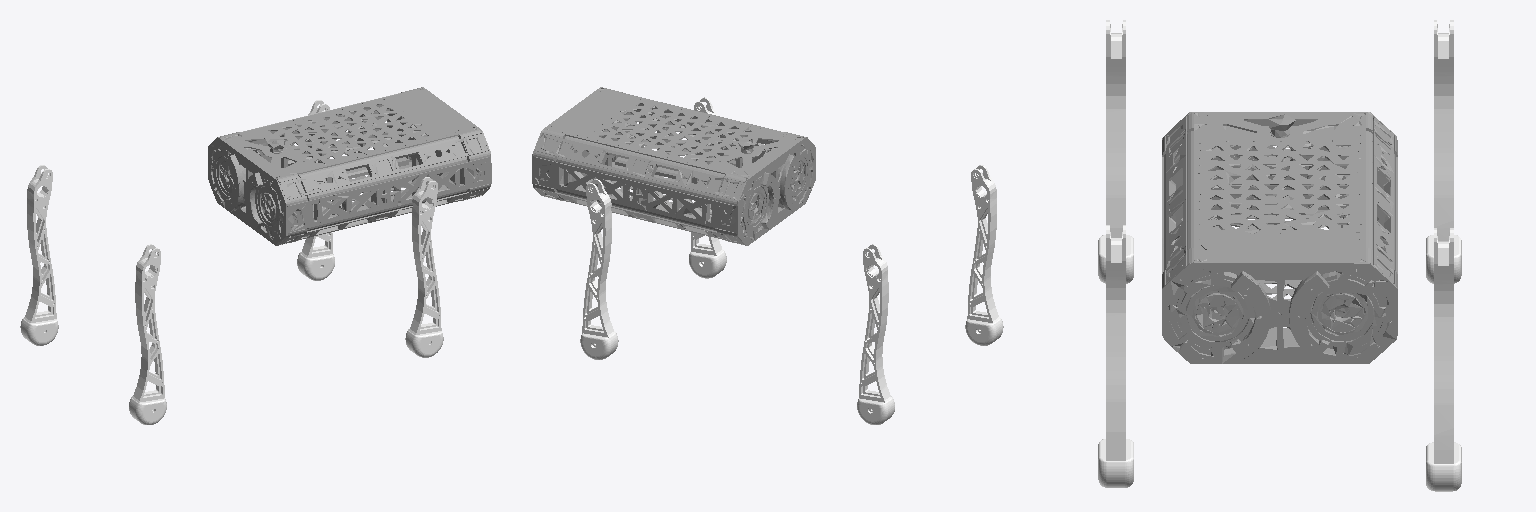
The robot description file, URDF, robot "dog2":
<?xml version='1.0' encoding='UTF-8'?>
<!-- This URDF was automatically created by SolidWorks to URDF Exporter! Originally created by Stephen Brawner (brawner@gmail.com)
     Commit Version: 1.6.0-4-g7f85cfe  Build Version: 1.6.7995.38578
     For more information, please see http://wiki.ros.org/sw_urdf_exporter -->
<robot name="dog2">
  <link name="base">
    <inertial>
      <origin xyz="-0.0085 0.0003  0.0515" rpy="0 0 0"/>
      <mass value="12.0800"/>
      <inertia ixx="0.0592" ixy="0.0000" ixz="0.0002" iyy="0.2059" iyz="0.0000" izz="0.2419"/>
    </inertial>
    <visual>
      <origin xyz="0 0 0" rpy="0 0 0"/>
      <geometry>
        <mesh filename="package://dog2/meshes/body_link.stl"/>
      </geometry>
      <material name="">
        <color rgba="0.69804 0.69804 0.69804 1"/>
      </material>
    </visual>
    <collision>
      <origin xyz="0 0 0" rpy="0 0 0"/>
      <geometry>
        <mesh filename="package://dog2/meshes/body_link.stl"/>
      </geometry>
    </collision>
  </link>
  <link name="FL_hip">
    <inertial>
      <origin xyz="0.049906 0.0022547 3.1784E-05" rpy="0 0 0"/>
      <mass value="1.171534"/>
      <inertia ixx="0.001214" ixy=" -0.000026" ixz="0.000015" iyy="0.001915" iyz="-0.000007" izz="0.001499"/>
    </inertial>
    <visual>
      <origin xyz="0 0 0" rpy="0 0 0"/>
      <geometry>
        <mesh filename="package://dog2/meshes/lf_link1.stl"/>
      </geometry>
      <material name="">
        <color rgba="0.86667 0.9098 1 1"/>
      </material>
    </visual>
    <collision>
      <origin xyz="0 0 0" rpy="0 0 0"/>
      <geometry>
        <mesh filename="package://dog2/meshes/lf_link1.stl"/>
      </geometry>
    </collision>
  </link>
  <joint name="FL_hip_joint" type="revolute">
    <origin xyz="0.19186 0.069989 0.062" rpy="0 0 0"/>
    <parent link="base"/>
    <child link="FL_hip"/>
    <axis xyz="1 0 0"/>
    <limit lower="-3.14159" upper="3.14159" effort="30" velocity="30"/>
  </joint>
  <link name="FL_thigh">
    <inertial>
      <origin xyz="0.0509 0.0631 -0.0053" rpy="0 0 0"/>
      <mass value="2.1452"/>
      <inertia ixx="0.0029" ixy="-0.0024" ixz="0.0007" iyy="0.0176" iyz="0.0003" izz="0.0177"/>
    </inertial>
    <visual>
      <origin xyz="0 0 0" rpy="0 0 0"/>
      <geometry>
        <mesh filename="package://dog2/meshes/lf_link2.stl"/>
      </geometry>
      <material name="">
        <color rgba="0.86667 0.9098 1 1"/>
      </material>
    </visual>
    <collision>
      <origin xyz="0 0 0" rpy="0 0 0"/>
      <geometry>
        <mesh filename="package://dog2/meshes/lf_link2.stl"/>
      </geometry>
    </collision>
  </link>
  <joint name="FL_thigh_joint" type="revolute">
    <origin xyz="0.07 0.0252 0" rpy="3.1416 0 -3.1416"/>
    <parent link="FL_hip"/>
    <child link="FL_thigh"/>
    <axis xyz="0 1 0"/>
    <limit lower="-3.14159" upper="3.14159" effort="30" velocity="30"/>
  </joint>
  <link name="FL_calf">
    <inertial>
      <origin xyz="0.13164 -4.7633E-05 0.0014075" rpy="0 0 0"/>
      <mass value="0.24497"/>
      <inertia ixx="4.0023E-05" ixy="1.4408E-06" ixz="4.3547E-05" iyy="0.0021463" iyz="3.4183E-08" izz="0.0021238"/>
    </inertial>
    <visual>
      <origin xyz="0 0 0" rpy="0 0 0"/>
      <geometry>
        <mesh filename="package://dog2/meshes/lf_link3.stl"/>
      </geometry>
      <material name="">
        <color rgba="1 1 1 1"/>
      </material>
    </visual>
    <collision>
      <origin xyz="0 0 0" rpy="0 0 0"/>
      <geometry>
        <mesh filename="package://dog2/meshes/lf_link3.stl"/>
      </geometry>
    </collision>
  </link>
  <joint name="FL_calf_joint" type="revolute">
    <origin xyz="0.22996 0.0881 0.0043762" rpy="3.1416 -1.570796327 -3.1416"/>
    <parent link="FL_thigh"/>
    <child link="FL_calf"/>
    <axis xyz="0 1 0"/>
    <limit lower="-3.14159" upper="3.14159" effort="30" velocity="30"/>
  </joint>
  <link name="FL_foot">
    <inertial>
      <origin xyz="4.5226E-10 -5.5453E-05 -0.0061728" rpy="0 0 0"/>
      <mass value="0.13384"/>
      <inertia ixx="3.8674E-05" ixy="4.6691E-11" ixz="6.7988E-13" iyy="5.6264E-05" iyz="-4.5825E-08" izz="5.6125E-05"/>
    </inertial>
    <visual>
      <origin xyz="0 0 0" rpy="0 0 0"/>
      <geometry>
        <mesh filename="package://dog2/meshes/lf_link4.stl"/>
      </geometry>
      <material name="">
        <color rgba="1 1 1 1"/>
      </material>
    </visual>
    <collision>
      <origin xyz="0 0 0" rpy="0 0 0"/>
      <geometry>
        <mesh filename="package://dog2/meshes/lf_link4.stl"/>
      </geometry>
    </collision>
  </link>
  <joint name="FL_foot_joint" type="fixed">
    <origin xyz="0.25703 0 0" rpy="0 -1.4959 0"/>
    <parent link="FL_calf"/>
    <child link="FL_foot"/>
    <axis xyz="0 0 0"/>
  </joint>
  <link name="FR_hip">
    <inertial>
      <origin xyz="0.063999 -0.001797 0.010368" rpy="0 0 0"/>
      <mass value="1.170661"/>
      <inertia ixx=" 0.001215" ixy="0.000029" ixz=" 0.000015" iyy="0.001923" iyz="-0.000006" izz="0.001511"/>
    </inertial>
    <visual>
      <origin xyz="0 0 0" rpy="0 0 0"/>
      <geometry>
        <mesh filename="package://dog2/meshes/rf_link1.stl"/>
      </geometry>
      <material name="">
        <color rgba="0.86667 0.9098 1 1"/>
      </material>
    </visual>
    <collision>
      <origin xyz="0 0 0" rpy="0 0 0"/>
      <geometry>
        <mesh filename="package://dog2/meshes/rf_link1.stl"/>
      </geometry>
    </collision>
  </link>
  <joint name="FR_hip_joint" type="revolute">
    <origin xyz="0.19186 -0.069602 0.051649" rpy="0 0 0"/>
    <parent link="base"/>
    <child link="FR_hip"/>
    <axis xyz="1 0 0"/>
    <limit lower="-3.14159" upper="3.14159" effort="30" velocity="30"/>
  </joint>
  <link name="FR_thigh">
    <inertial>
      <origin xyz="0.0507 -0.0630 -0.0062" rpy="0 0 0"/>
      <mass value="2.1478"/>
      <inertia ixx=" 0.0029" ixy="0.0024" ixz=" 0.0010" iyy="0.0176" iyz=" -0.0003" izz="0.0177"/>
    </inertial>
    <visual>
      <origin xyz="0 0 0" rpy="0 0 0"/>
      <geometry>
        <mesh filename="package://dog2/meshes/rf_link2.stl"/>
      </geometry>
      <material name="">
        <color rgba="0.86667 0.9098 1 1"/>
      </material>
    </visual>
    <collision>
      <origin xyz="0 0 0" rpy="0 0 0"/>
      <geometry>
        <mesh filename="package://dog2/meshes/rf_link2.stl"/>
      </geometry>
    </collision>
  </link>
  <joint name="FR_thigh_joint" type="revolute">
    <origin xyz="0.07 -0.025609 0.010351" rpy="3.1416 0 -3.1416"/>
    <parent link="FR_hip"/>
    <child link="FR_thigh"/>
    <axis xyz="0 1 0"/>
    <limit lower="-3.14159" upper="3.14159" effort="30" velocity="30"/>
  </joint>
  <link name="FR_calf">
    <inertial>
      <origin xyz="0.13164 4.7633E-05 0.0014075" rpy="0 0 0"/>
      <mass value="0.24497"/>
      <inertia ixx="4.0023E-05" ixy="-1.4408E-06" ixz="4.3547E-05" iyy="0.0021463" iyz="-3.4183E-08" izz="0.0021238"/>
    </inertial>
    <visual>
      <origin xyz="0 0 0" rpy="0 0 0"/>
      <geometry>
        <mesh filename="package://dog2/meshes/rf_link3.stl"/>
      </geometry>
      <material name="">
        <color rgba="1 1 1 1"/>
      </material>
    </visual>
    <collision>
      <origin xyz="0 0 0" rpy="0 0 0"/>
      <geometry>
        <mesh filename="package://dog2/meshes/rf_link3.stl"/>
      </geometry>
    </collision>
  </link>
  <joint name="FR_calf_joint" type="revolute">
    <origin xyz="0.23 -0.0881 0" rpy="3.1416 -1.570796327 -3.1416"/>
    <parent link="FR_thigh"/>
    <child link="FR_calf"/>
    <axis xyz="0 1 0"/>
    <limit lower="-3.14159" upper="3.14159" effort="30" velocity="30"/>
  </joint>
  <link name="FR_foot">
    <inertial>
      <origin xyz="4.9022E-10 -5.5453E-05 -0.0061728" rpy="0 0 0"/>
      <mass value="0.13384"/>
      <inertia ixx="3.8674E-05" ixy="4.6888E-11" ixz="7.3638E-13" iyy="5.6264E-05" iyz="-4.5825E-08" izz="5.6125E-05"/>
    </inertial>
    <visual>
      <origin xyz="0 0 0" rpy="0 0 0"/>
      <geometry>
        <mesh filename="package://dog2/meshes/rf_link4.stl"/>
      </geometry>
      <material name="">
        <color rgba="1 1 1 1"/>
      </material>
    </visual>
    <collision>
      <origin xyz="0 0 0" rpy="0 0 0"/>
      <geometry>
        <mesh filename="package://dog2/meshes/rf_link4.stl"/>
      </geometry>
    </collision>
  </link>
  <joint name="FR_foot_joint" type="fixed">
    <origin xyz="0.25703 0 0" rpy="0 -1.4959 0"/>
    <parent link="FR_calf"/>
    <child link="FR_foot"/>
    <axis xyz="0 0 0"/>
  </joint>
  <link name="RL_hip">
    <inertial>
      <origin xyz="-0.063650 0.001126 0.000018" rpy="0 0 0"/>
      <mass value="1.171534"/>
      <inertia ixx="0.001187" ixy="0.000024" ixz="-0.000015" iyy="0.001888" iyz="0.000006" izz="0.001486"/>
    </inertial>
    <visual>
      <origin xyz="0 0 0" rpy="0 0 0"/>
      <geometry>
        <mesh filename="package://dog2/meshes/lb_link1.stl"/>
      </geometry>
      <material name="">
        <color rgba="1 1 1 1"/>
      </material>
    </visual>
    <collision>
      <origin xyz="0 0 0" rpy="0 0 0"/>
      <geometry>
        <mesh filename="package://dog2/meshes/lb_link1.stl"/>
      </geometry>
    </collision>
  </link>
  <joint name="RL_hip_joint" type="revolute">
    <origin xyz="-0.20874 0.069989 0.062" rpy="0 0 0"/>
    <parent link="base"/>
    <child link="RL_hip"/>
    <axis xyz="1 0 0"/>
    <limit lower="-3.14159" upper="3.14159" effort="30" velocity="30"/>
  </joint>
  <link name="RL_thigh">
    <inertial>
      <origin xyz="0.0507 0.0631 -0.0063" rpy="0 0 0"/>
      <mass value="2.1470"/>
      <inertia ixx="0.0029" ixy=" -0.0024" ixz="0.0010" iyy="0.0176" iyz="0.0003" izz="0.0177"/>
    </inertial>
    <visual>
      <origin xyz="0 0 0" rpy="0 0 0"/>
      <geometry>
        <mesh filename="package://dog2/meshes/lb_link2.stl"/>
      </geometry>
      <material name="">
        <color rgba="0.86667 0.9098 1 1"/>
      </material>
    </visual>
    <collision>
      <origin xyz="0 0 0" rpy="0 0 0"/>
      <geometry>
        <mesh filename="package://dog2/meshes/lb_link2.stl"/>
      </geometry>
    </collision>
  </link>
  <joint name="RL_thigh_joint" type="revolute">
    <origin xyz="-0.07 0.0252 0" rpy="-3.1416 0 3.1416"/>
    <parent link="RL_hip"/>
    <child link="RL_thigh"/>
    <axis xyz="0 1 0"/>
    <limit lower="-3.14159" upper="3.14159" effort="30" velocity="30"/>
  </joint>
  <link name="RL_calf">
    <inertial>
      <origin xyz="0.13164 -4.7633E-05 0.0014075" rpy="0 0 0"/>
      <mass value="0.24497"/>
      <inertia ixx="4.0023E-05" ixy="1.4408E-06" ixz="4.3547E-05" iyy="0.0021463" iyz="3.4183E-08" izz="0.0021238"/>
    </inertial>
    <visual>
      <origin xyz="0 0 0" rpy="0 0 0"/>
      <geometry>
        <mesh filename="package://dog2/meshes/lb_link3.stl"/>
      </geometry>
      <material name="">
        <color rgba="1 1 1 1"/>
      </material>
    </visual>
    <collision>
      <origin xyz="0 0 0" rpy="0 0 0"/>
      <geometry>
        <mesh filename="package://dog2/meshes/lb_link3.stl"/>
      </geometry>
    </collision>
  </link>
  <joint name="RL_calf_joint" type="revolute">
    <origin xyz="0.23 0.0881 0" rpy="-3.1416 -1.570796327 3.1416"/>
    <parent link="RL_thigh"/>
    <child link="RL_calf"/>
    <axis xyz="0 1 0"/>
    <limit lower="-3.14159" upper="3.14159" effort="30" velocity="30"/>
  </joint>
  <link name="RL_foot">
    <inertial>
      <origin xyz="4.9098E-10 -5.5453E-05 -0.0061728" rpy="0 0 0"/>
      <mass value="0.13384"/>
      <inertia ixx="3.8674E-05" ixy="4.6888E-11" ixz="7.3643E-13" iyy="5.6264E-05" iyz="-4.5825E-08" izz="5.6125E-05"/>
    </inertial>
    <visual>
      <origin xyz="0 0 0" rpy="0 0 0"/>
      <geometry>
        <mesh filename="package://dog2/meshes/lb_link4.stl"/>
      </geometry>
      <material name="">
        <color rgba="1 1 1 1"/>
      </material>
    </visual>
    <collision>
      <origin xyz="0 0 0" rpy="0 0 0"/>
      <geometry>
        <mesh filename="package://dog2/meshes/lb_link4.stl"/>
      </geometry>
    </collision>
  </link>
  <joint name="RL_foot_joint" type="fixed">
    <origin xyz="0.25703 0 0" rpy="0 -1.4959 0"/>
    <parent link="RL_calf"/>
    <child link="RL_foot"/>
    <axis xyz="0 0 0"/>
  </joint>
  <link name="RR_hip">
    <inertial>
      <origin xyz=" -0.063952 -0.001484 0.000051" rpy="0 0 0"/>
      <mass value="1.171534"/>
      <inertia ixx="0.001218" ixy="-0.000029" ixz="-0.000013" iyy=" 0.001929" iyz="-0.000007" izz="0.001517"/>
    </inertial>
    <visual>
      <origin xyz="0 0 0" rpy="0 0 0"/>
      <geometry>
        <mesh filename="package://dog2/meshes/rb_link1.stl"/>
      </geometry>
      <material name="">
        <color rgba="0.86667 0.9098 1 1"/>
      </material>
    </visual>
    <collision>
      <origin xyz="0 0 0" rpy="0 0 0"/>
      <geometry>
        <mesh filename="package://dog2/meshes/rb_link1.stl"/>
      </geometry>
    </collision>
  </link>
  <joint name="RR_hip_joint" type="revolute">
    <origin xyz="-0.20874 -0.070011 0.062" rpy="0 0 0"/>
    <parent link="base"/>
    <child link="RR_hip"/>
    <axis xyz="1 0 0"/>
    <limit lower="-3.14159" upper="3.14159" effort="30" velocity="30"/>
  </joint>
  <link name="RR_thigh">
    <inertial>
      <origin xyz="0.0507 -0.0630 -0.0062" rpy="0 0 0"/>
      <mass value="2.1478"/>
      <inertia ixx="0.0029" ixy="0.0024" ixz="0.0010" iyy="0.0176" iyz="-0.0003" izz="0.0177"/>
    </inertial>
    <visual>
      <origin xyz="0 0 0" rpy="0 0 0"/>
      <geometry>
        <mesh filename="package://dog2/meshes/rb_link2.stl"/>
      </geometry>
      <material name="">
        <color rgba="1 1 1 1"/>
      </material>
    </visual>
    <collision>
      <origin xyz="0 0 0" rpy="0 0 0"/>
      <geometry>
        <mesh filename="package://dog2/meshes/rb_link2.stl"/>
      </geometry>
    </collision>
  </link>
  <joint name="RR_thigh_joint" type="revolute">
    <origin xyz="-0.07 -0.0252 0" rpy="-3.1416 0 3.1416"/>
    <parent link="RR_hip"/>
    <child link="RR_thigh"/>
    <axis xyz="0 1 0"/>
    <limit lower="-3.14159" upper="3.14159" effort="30" velocity="30"/>
  </joint>
  <link name="RR_calf">
    <inertial>
      <origin xyz="0.13164 4.7633E-05 0.0014075" rpy="0 0 0"/>
      <mass value="0.24497"/>
      <inertia ixx="4.0023E-05" ixy="-1.4408E-06" ixz="4.3547E-05" iyy="0.0021463" iyz="-3.4183E-08" izz="0.0021238"/>
    </inertial>
    <visual>
      <origin xyz="0 0 0" rpy="0 0 0"/>
      <geometry>
        <mesh filename="package://dog2/meshes/rb_link3.stl"/>
      </geometry>
      <material name="">
        <color rgba="1 1 1 1"/>
      </material>
    </visual>
    <collision>
      <origin xyz="0 0 0" rpy="0 0 0"/>
      <geometry>
        <mesh filename="package://dog2/meshes/rb_link3.stl"/>
      </geometry>
    </collision>
  </link>
  <joint name="RR_calf_joint" type="revolute">
    <origin xyz="0.23 -0.0881 0" rpy="-3.1416 -1.570796327 3.1416"/>
    <parent link="RR_thigh"/>
    <child link="RR_calf"/>
    <axis xyz="0 1 0"/>
    <limit lower="-3.14159" upper="3.14159" effort="30" velocity="30"/>
  </joint>
  <link name="RR_foot">
    <inertial>
      <origin xyz="4.9097E-10 -5.5453E-05 -0.0061728" rpy="0 0 0"/>
      <mass value="0.13384"/>
      <inertia ixx="3.8674E-05" ixy="4.6888E-11" ixz="7.3643E-13" iyy="5.6264E-05" iyz="-4.5825E-08" izz="5.6125E-05"/>
    </inertial>
    <visual>
      <origin xyz="0 0 0" rpy="0 0 0"/>
      <geometry>
        <mesh filename="package://dog2/meshes/rb_link4.stl"/>
      </geometry>
      <material name="">
        <color rgba="1 1 1 1"/>
      </material>
    </visual>
    <collision>
      <origin xyz="0 0 0" rpy="0 0 0"/>
      <geometry>
        <mesh filename="package://dog2/meshes/rb_link4.stl"/>
      </geometry>
    </collision>
  </link>
  <joint name="RR_foot_joint" type="fixed">
    <origin xyz="0.25703 0 0" rpy="0 -1.4959 0"/>
    <parent link="RR_calf"/>
    <child link="RR_foot"/>
    <axis xyz="0 0 0"/>
  </joint>
</robot>

--- Render facts (derived) ---
Views: 3 orthographic renders of the robot side by side, from view 1: azimuth 30°, elevation 25°; view 2: azimuth 150°, elevation 25°; view 3: azimuth 270°, elevation 25°.
Model dog2 with 17 links and 16 joints (12 revolute, 4 fixed), rooted at base, posed every joint at zero.
Links seen in each view (by area): view 1: base, RR_calf, FR_calf, RL_calf, FL_foot, FR_foot, RL_foot, RR_foot, FL_calf; view 2: base, RL_calf, FL_calf, RR_calf, FR_foot, RL_foot, RR_foot, FL_foot, FR_calf; view 3: base, FR_calf, FL_calf, RL_calf, RR_calf, FL_foot, FR_foot, RL_foot, RR_foot.
Boxes of the visible links, <box> form: base: <box>208,87,491,245</box>; RR_calf: <box>132,244,164,402</box>; FR_calf: <box>409,177,441,334</box>; RL_calf: <box>24,165,56,322</box>; FL_foot: <box>297,252,334,280</box>; FR_foot: <box>405,329,443,357</box>; RL_foot: <box>20,318,58,345</box>; RR_foot: <box>129,396,166,424</box>; FL_calf: <box>300,100,332,257</box>; base: <box>532,87,815,245</box>; RL_calf: <box>859,244,891,402</box>; FL_calf: <box>582,179,614,337</box>; RR_calf: <box>967,165,999,322</box>; FR_foot: <box>689,250,726,278</box>; RL_foot: <box>857,396,894,424</box>; RR_foot: <box>965,318,1003,345</box>; FL_foot: <box>580,332,618,359</box>; FR_calf: <box>691,97,722,255</box>; base: <box>1162,112,1397,363</box>; FR_calf: <box>1106,225,1125,460</box>; FL_calf: <box>1434,228,1453,463</box>; RL_calf: <box>1434,20,1453,240</box>; RR_calf: <box>1106,20,1125,237</box>; FL_foot: <box>1426,442,1461,491</box>; FR_foot: <box>1098,439,1133,487</box>; RL_foot: <box>1426,235,1461,283</box>; RR_foot: <box>1098,235,1133,283</box>.
Size in the robot's own frame: 0.7411 by 0.4066 by 0.3715 metres.
9 mesh visuals loaded from 17 distinct referenced files (9 binary STL); not drawn: 8 (reference not matched to a file when rendering).
